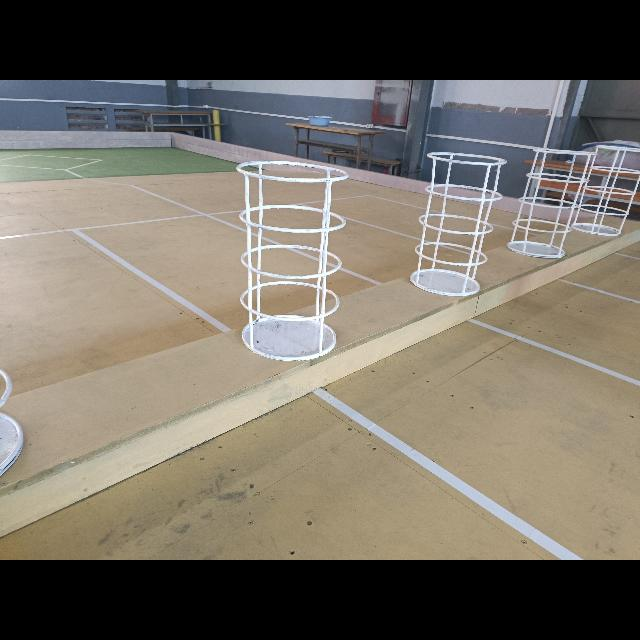S: (237, 160, 349, 362), (408, 150, 510, 298), (506, 146, 600, 259), (570, 144, 640, 236)
